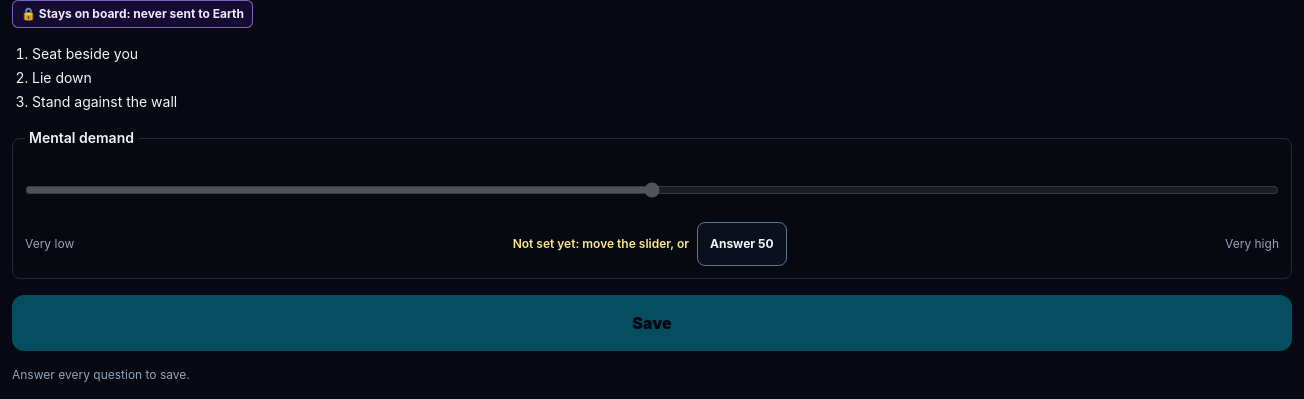
Test case: F-011 TLX slider starts unset › lets the crew answer the middle value with one tap instead of sliding off and back
The width and height of the screenshot is (1304, 399).
Later steps or results of the test are not shown.
Expected: the button with test id "questionnaire-save" is disabled, [12,295,1292,351]
Click the button with test id "slider-keep-0".
click(742, 244)  # box [697,222,787,266]
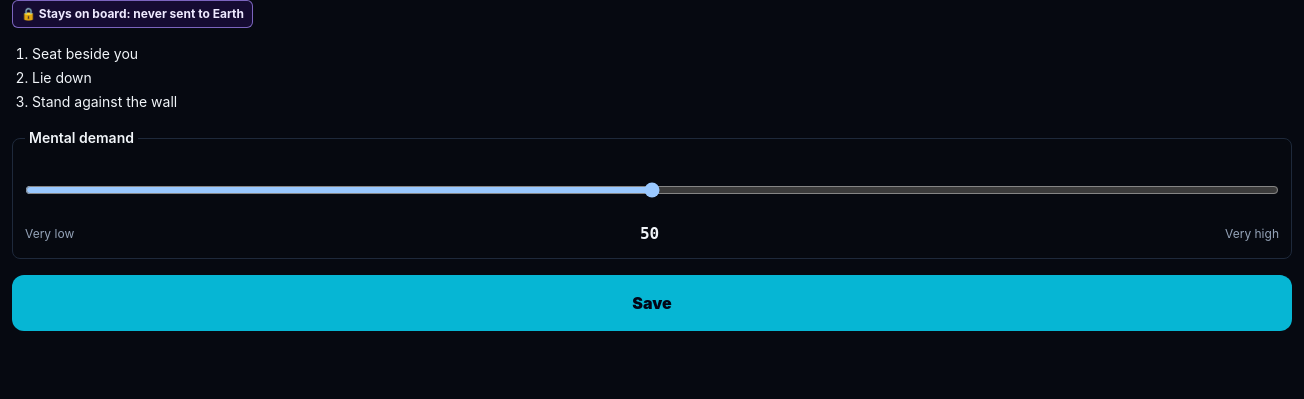
Expected: the slider with test id "slider-0" has attribute data-unset="false", [25,168,1279,212]
